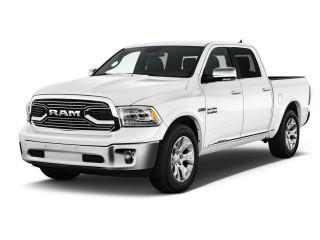ram: (45, 105, 83, 120)
